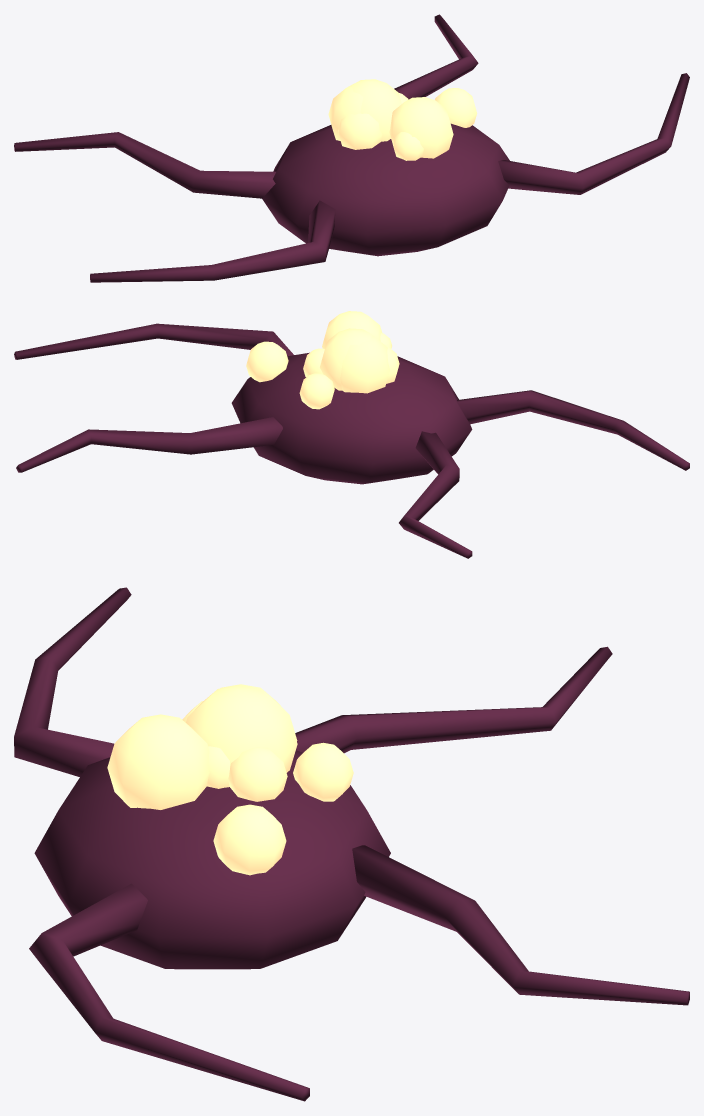
File: SM_Pustules_Red.fbx
The picture shows the model from 3 angles, top to bottom: view 1: azimuth 30°, elevation 25°; view 2: azimuth 150°, elevation 25°; view 3: azimuth 270°, elevation 25°; orthographic projection. The views are drawn at different scales.
Parts seen in each view (by area): view 1: SM_Pustules_Red; view 2: SM_Pustules_Red; view 3: SM_Pustules_Red.
Boxes of the visible parts, <box> form: SM_Pustules_Red: <box>14,14,689,282</box>; SM_Pustules_Red: <box>14,311,689,558</box>; SM_Pustules_Red: <box>14,587,689,1101</box>.
Bounding box in the file's own units: 2.39 × 0.5304 × 1.35.
